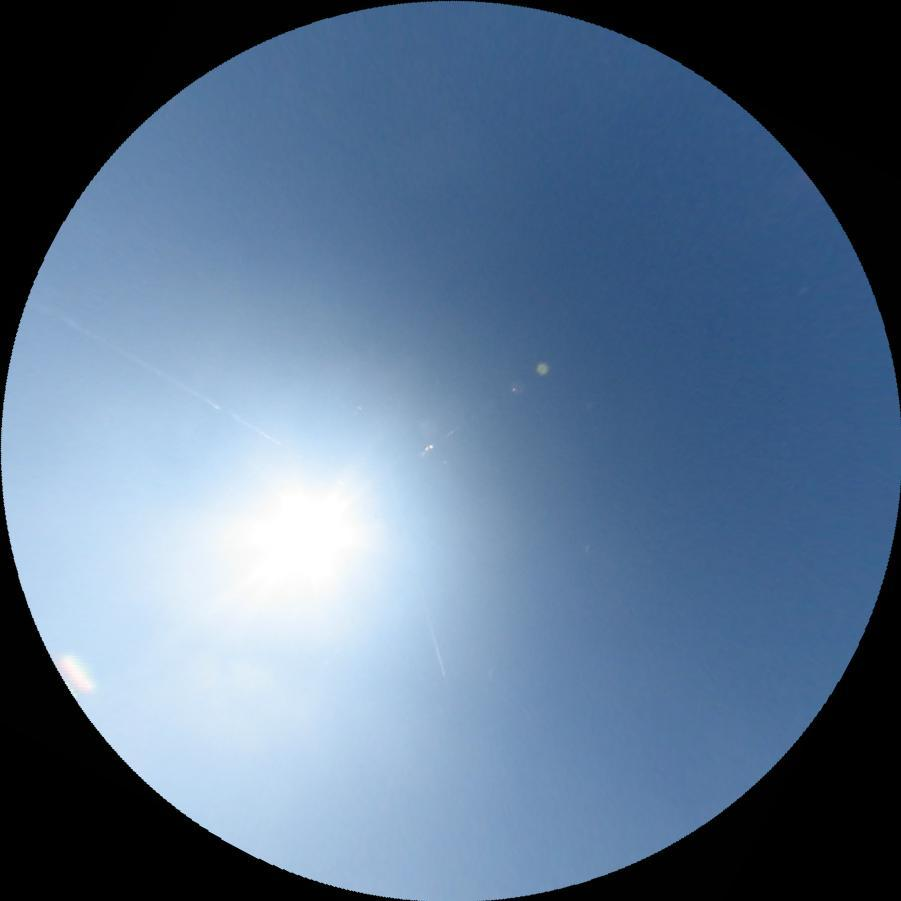contrail young: (412, 576, 446, 675)
parasite: (31, 295, 286, 444)
sun: (244, 486, 356, 586)
